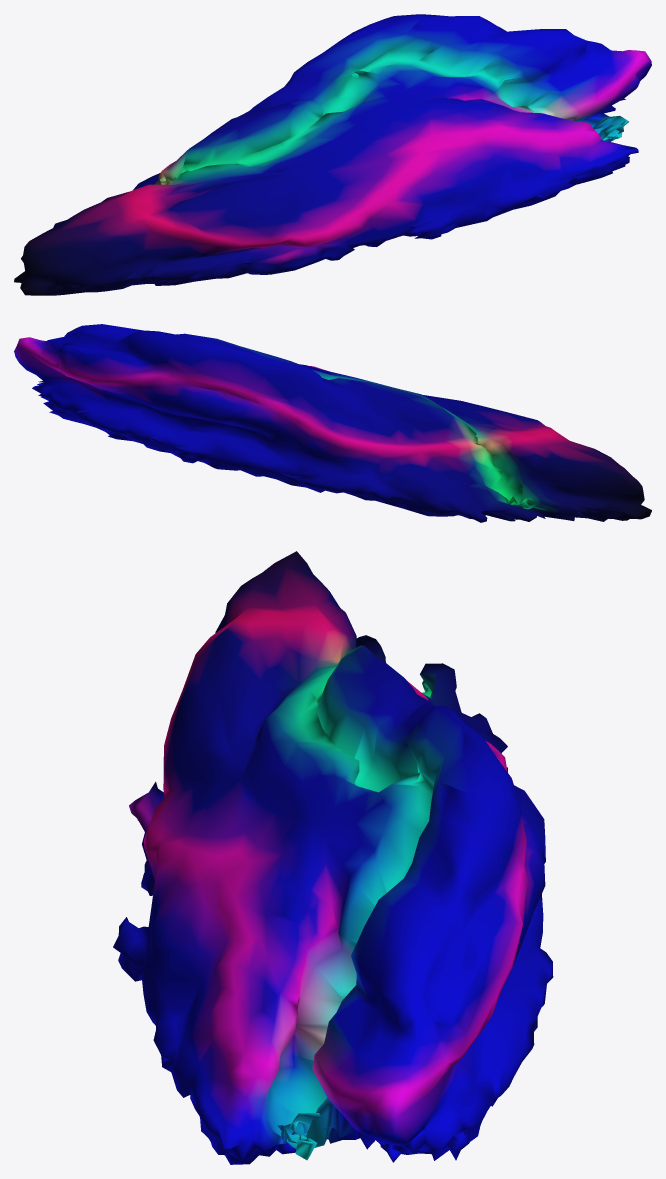
The model's file is silver_vein-u6-cracked-lod0.gltf.
3 renders of one model, top to bottom at view 1: azimuth 30°, elevation 25°; view 2: azimuth 150°, elevation 25°; view 3: azimuth 270°, elevation 25°, orthographic. The views are drawn at different scales.
Visible parts, largest first — view 1: silver_vein-u6-cracked-lod0; view 2: silver_vein-u6-cracked-lod0; view 3: silver_vein-u6-cracked-lod0.
Part boxes in pixels (bbox=[...]): silver_vein-u6-cracked-lod0: bbox=[14, 14, 651, 295]; silver_vein-u6-cracked-lod0: bbox=[14, 324, 651, 522]; silver_vein-u6-cracked-lod0: bbox=[113, 551, 553, 1164].
Size of the model in its own units: 2.48 by 0.4884 by 0.7779.
